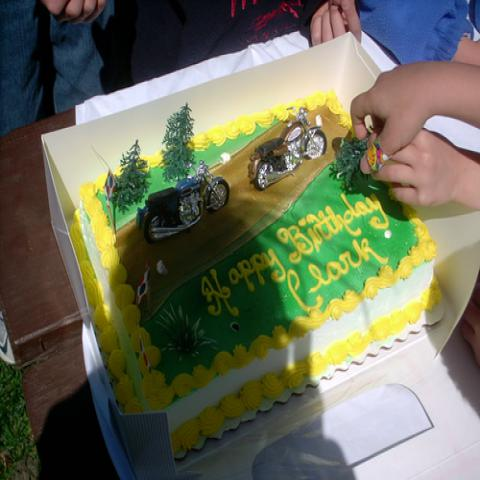motorcycle: (244, 103, 331, 193), (136, 161, 229, 242)
